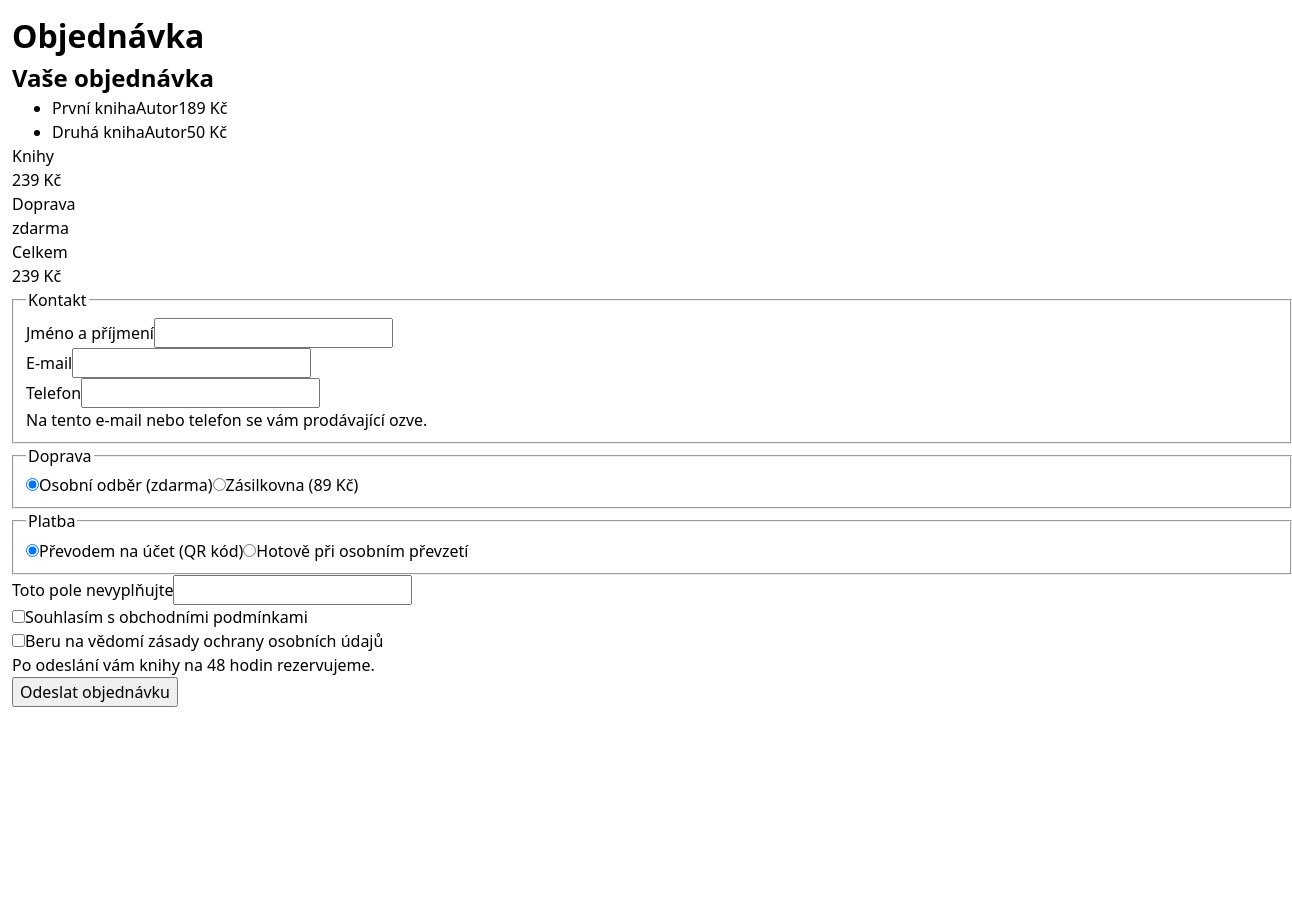
Test case: CheckoutForm › offers cash only with personal pickup
Check: the text "První kniha" is shown, box [52,97,136,119]
Click the radio button labelled "Hotově při osobním převzetí" at (250, 550), box [243,544,256,557]
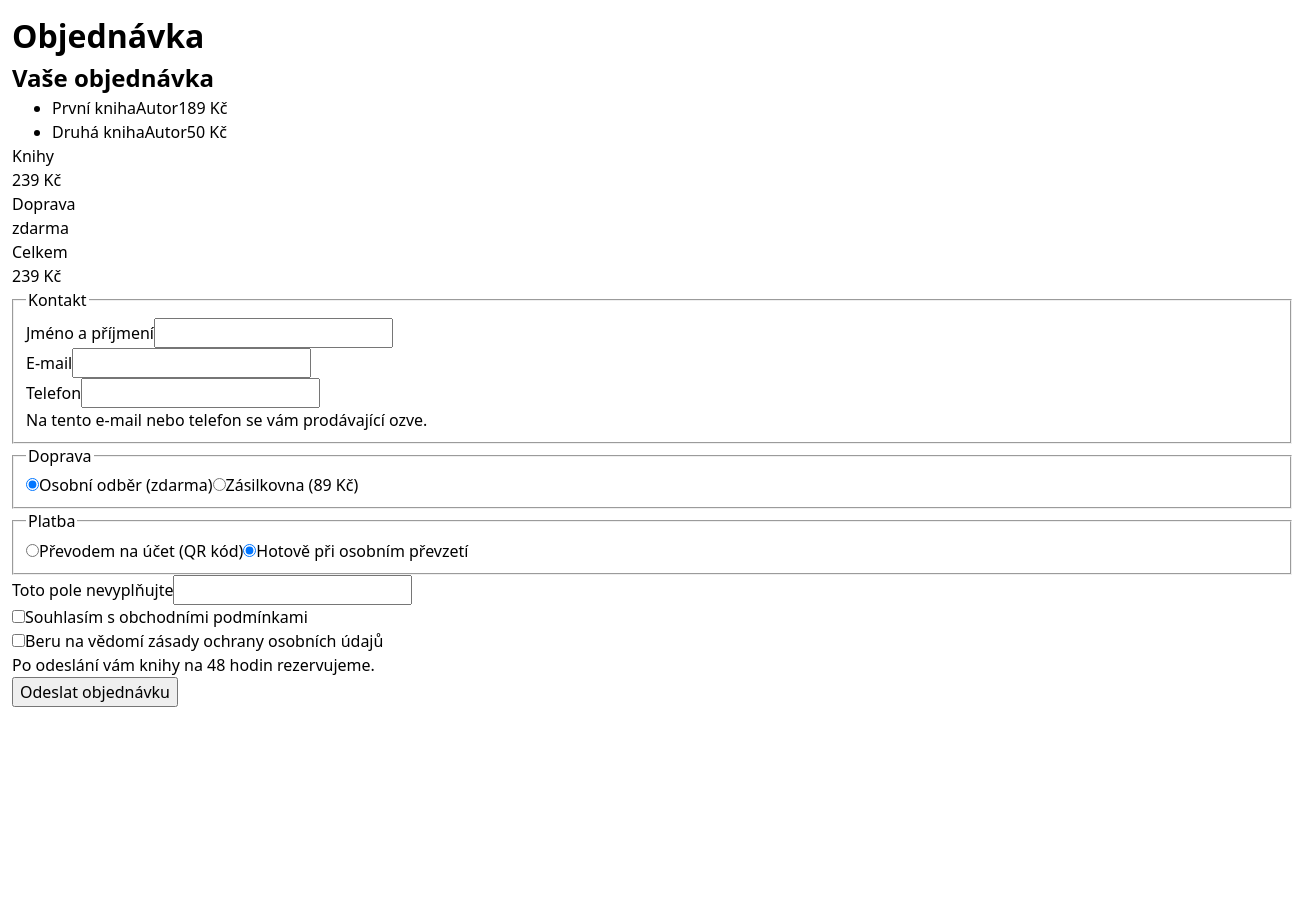
Click the radio button labelled "Zásilkovna (89 Kč)" at (219, 485), box [212,478,226,491]
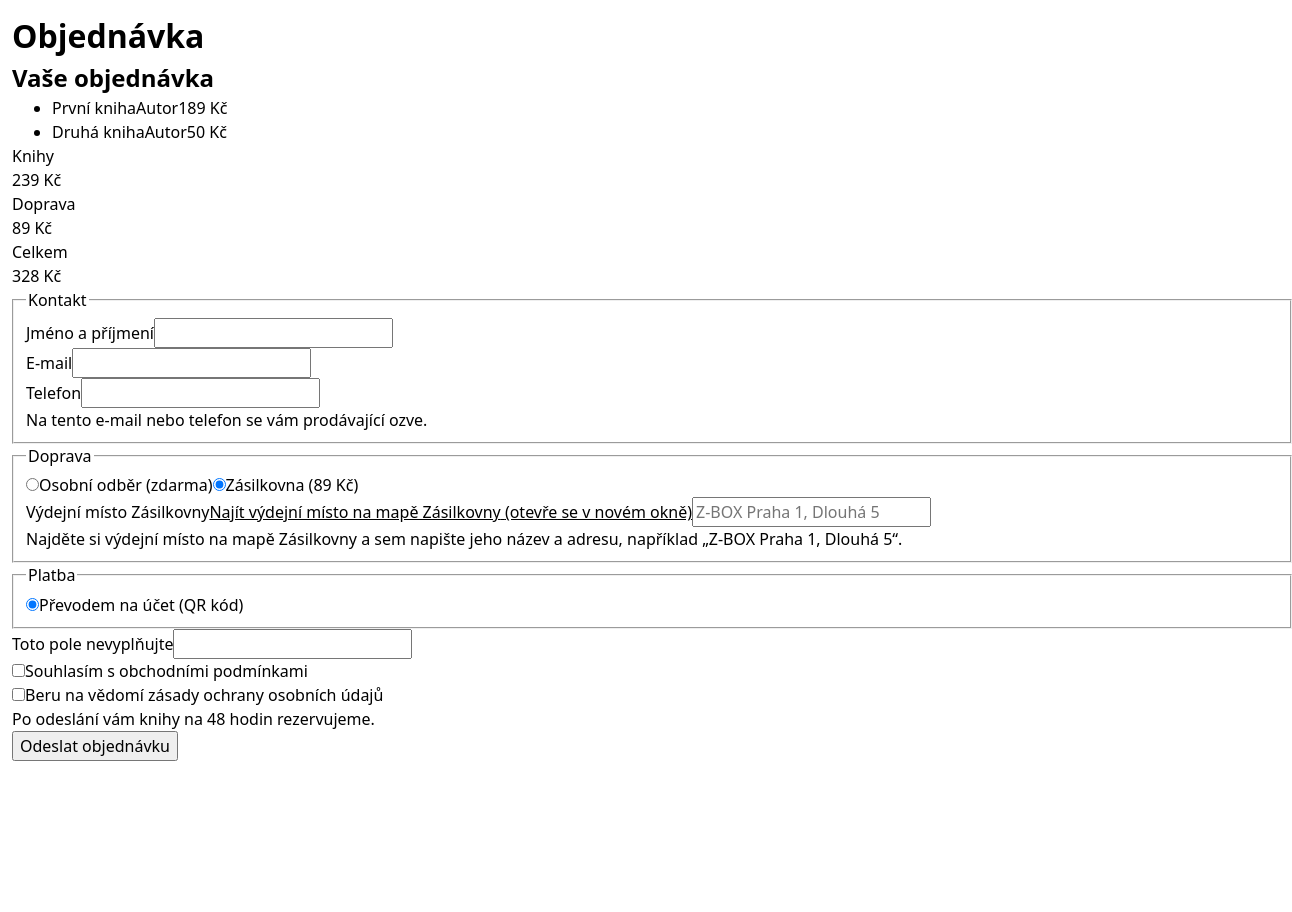
Check: the label labelled "Hotově při osobním převzetí" is gone
Check: the radio button labelled "Převodem na účet (QR kód)" is checked, box [26,598,39,611]
Click the radio button labelled "Osobní odběr (zdarma)" at (32, 485), box [26,478,39,491]
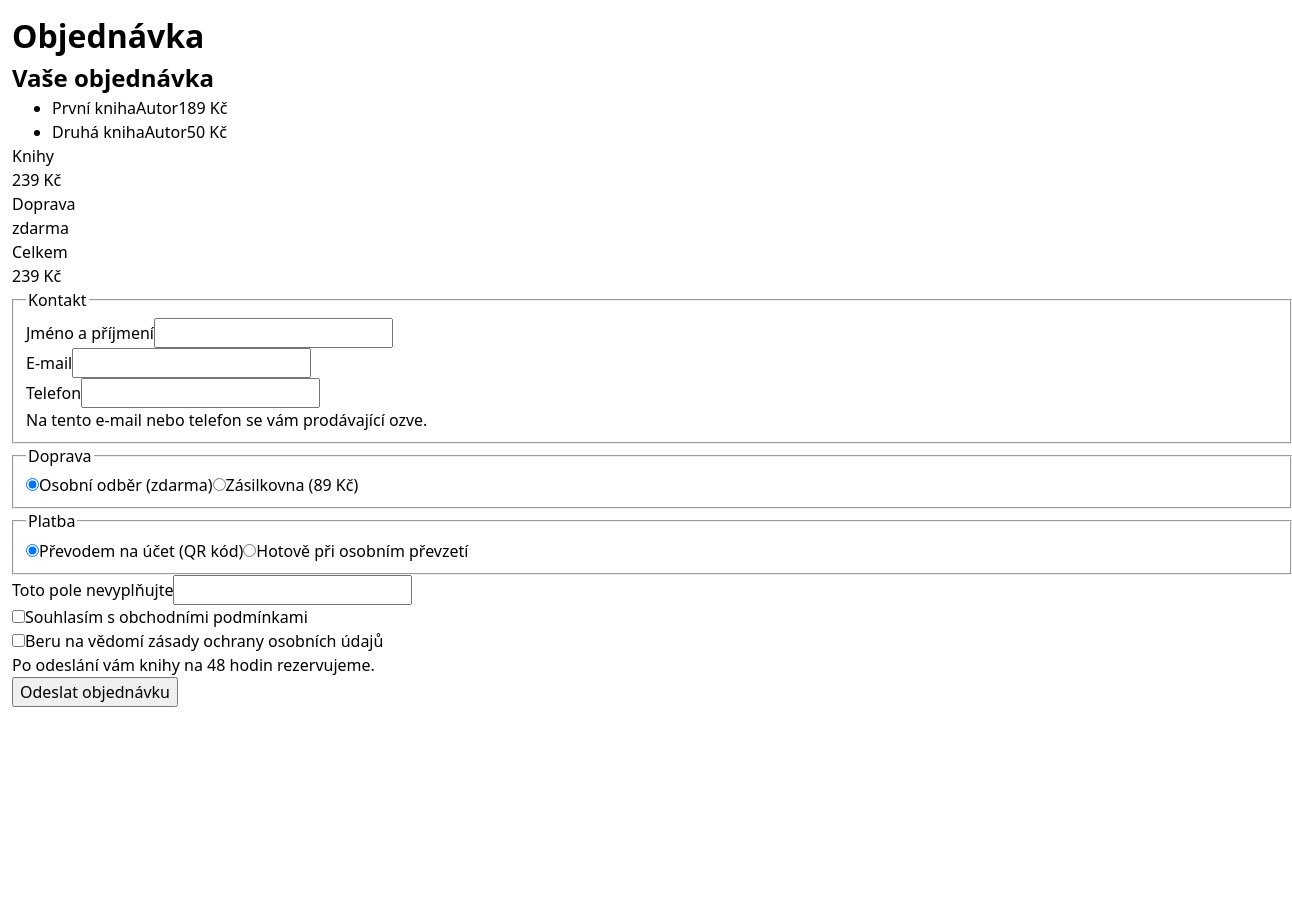
Check: the radio button labelled "Hotově při osobním převzetí" is shown, box [243,544,256,557]
